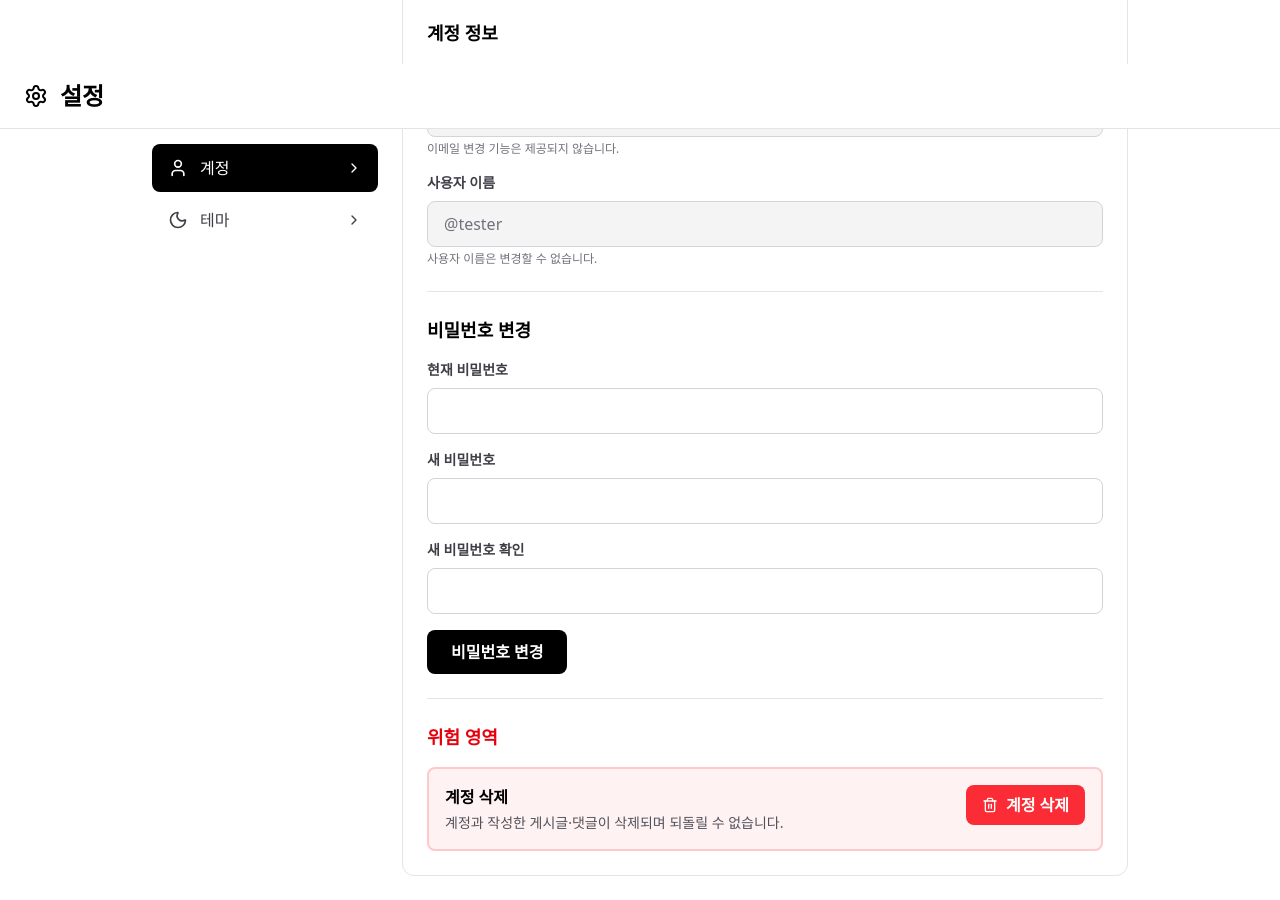
Scenario: SettingsPage › keeps the session and shows the server message when deletion is rejected
(page scrolled)
Click the button "계정 삭제". click: coordinates (1026, 805)
box: [966,785,1085,825]
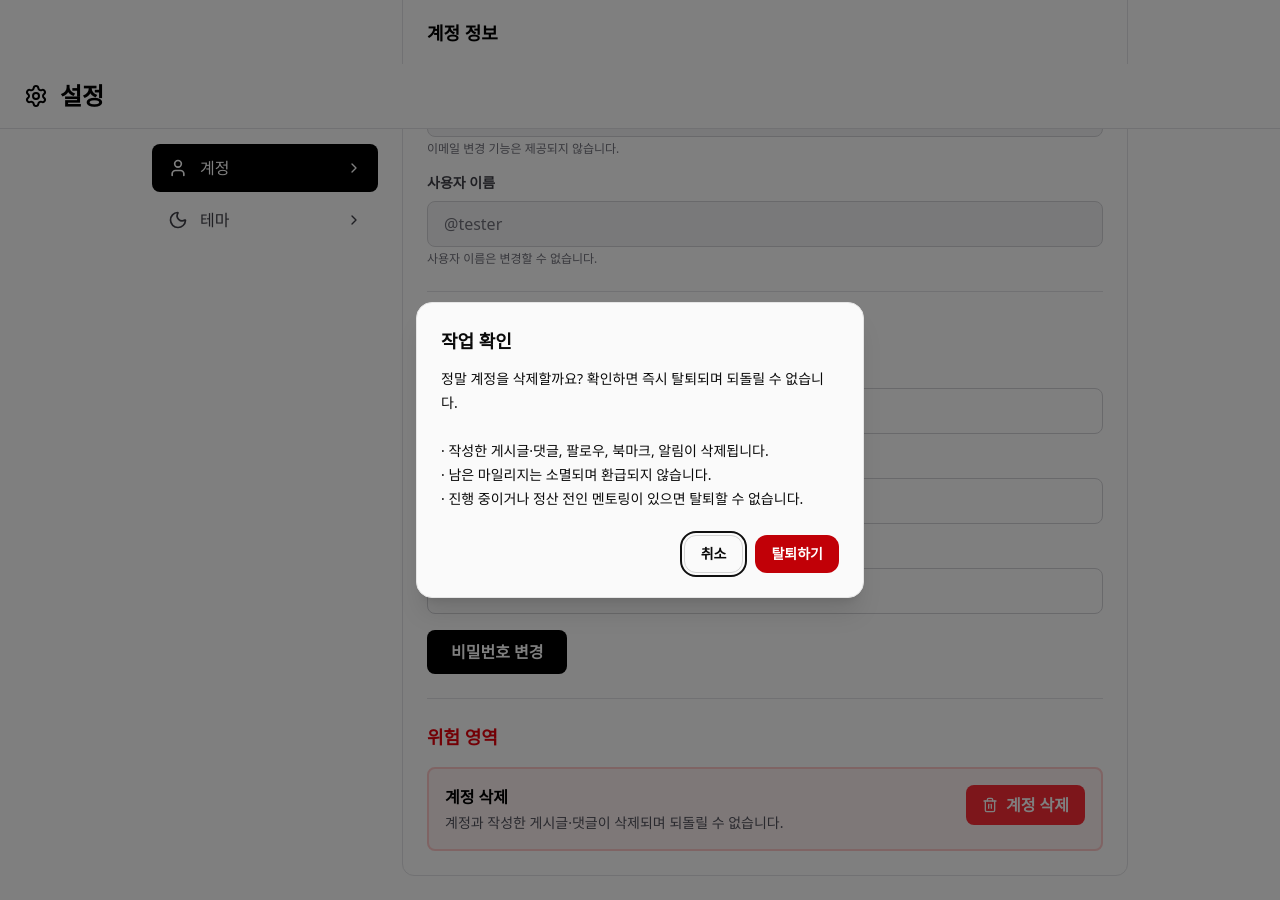
Click the button "탈퇴하기". click: coordinates (797, 554)
box: [756,535,839,573]
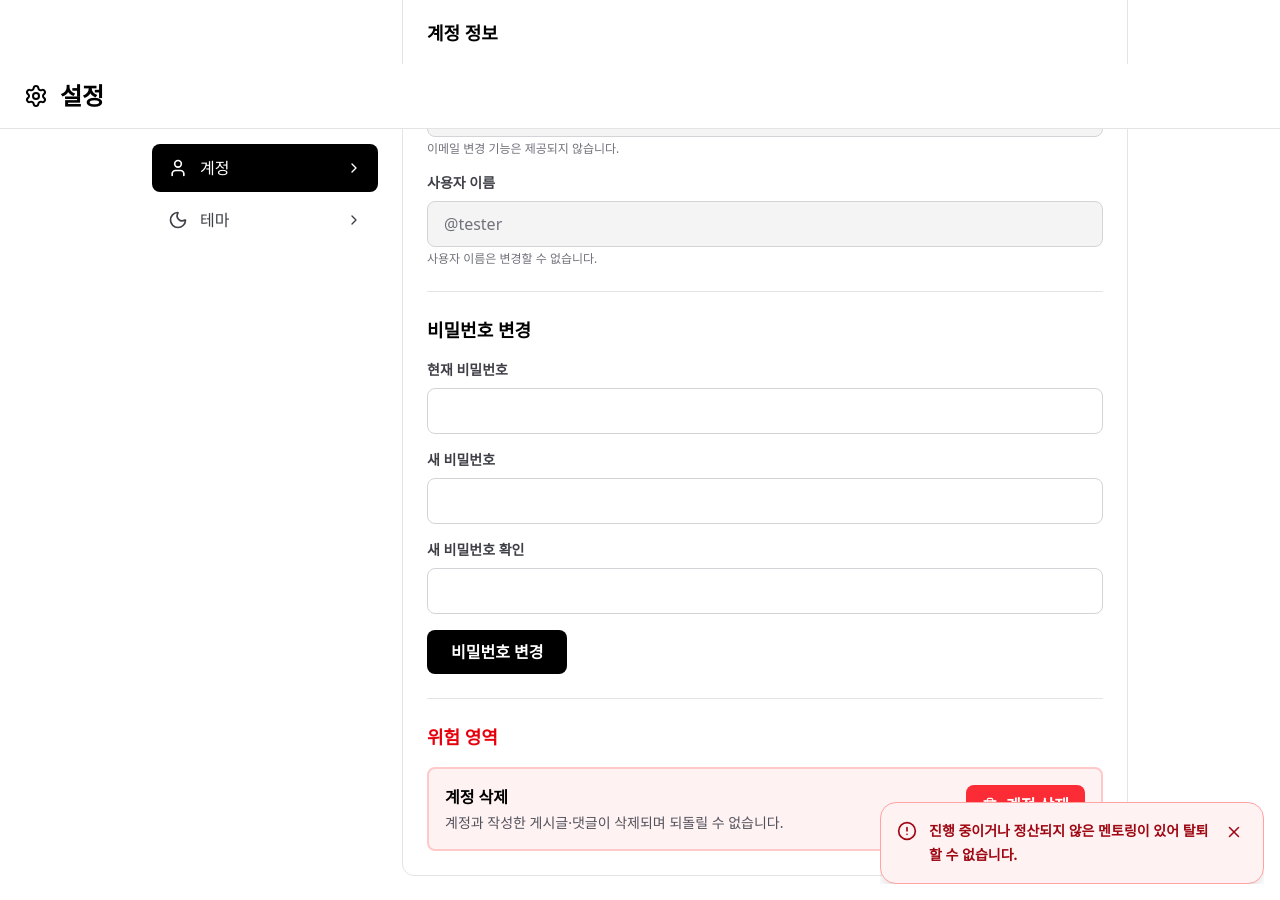
Check: the button "계정 삭제" is enabled, box [966,785,1085,825]
Check: the message reads "진행 중이거나 정산되지 않은 멘토링이 있어 탈퇴할 수 없습니다.", box [929,821,1208,864]
